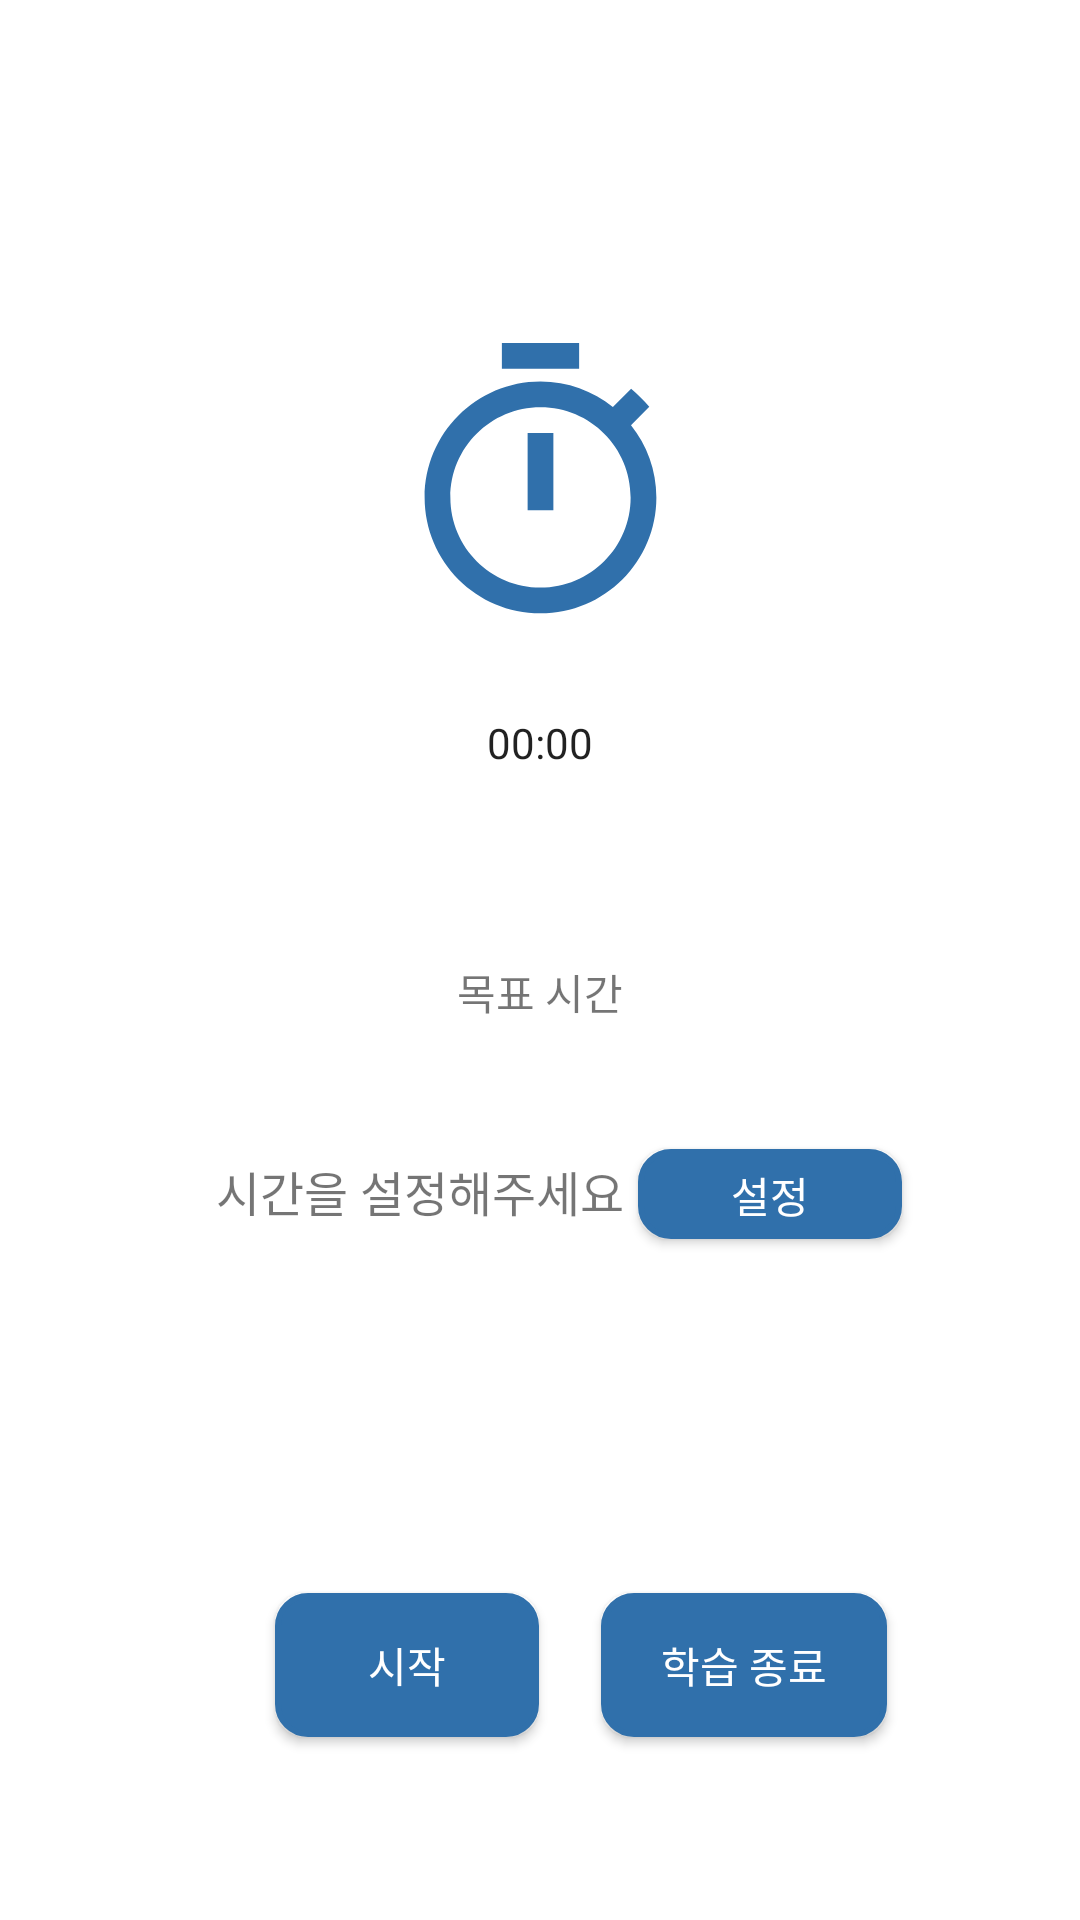

Named icons in this screenshot (1080 x 1920) and their centers, (x,y):
stopwatch: (540,478)
